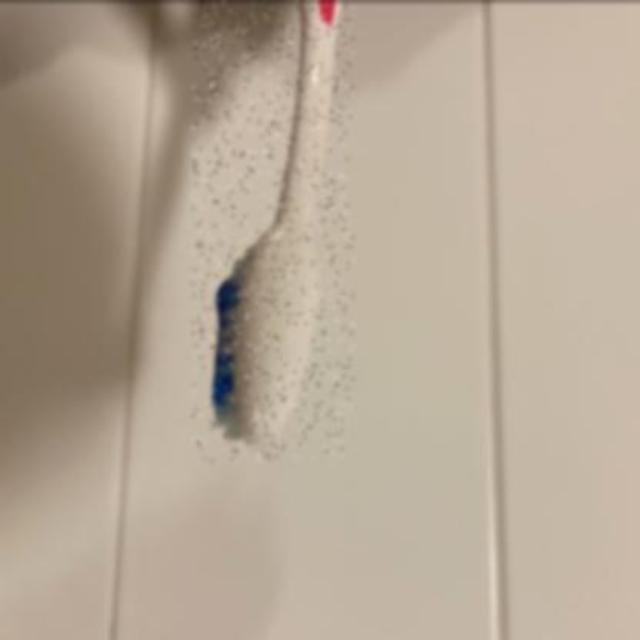toothbrush: (192, 0, 354, 460)
